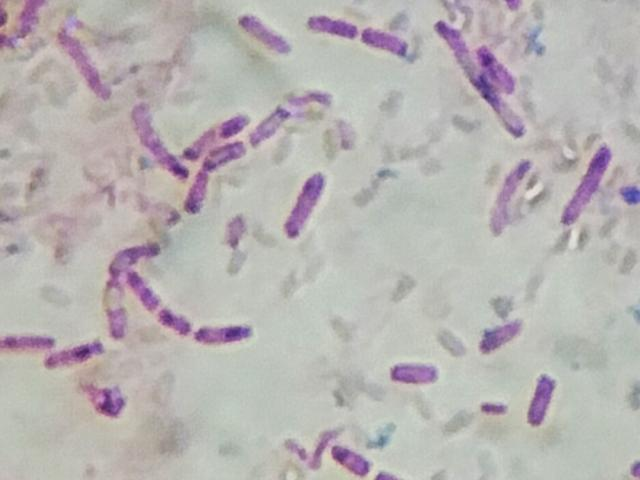E. coli: (53, 22, 116, 106), (126, 96, 186, 181), (561, 140, 615, 229), (488, 153, 532, 238), (285, 167, 329, 240), (472, 75, 521, 133), (518, 365, 558, 433), (190, 113, 251, 152), (478, 39, 521, 90), (385, 356, 445, 390), (476, 313, 530, 350), (306, 6, 361, 42), (196, 316, 259, 347), (238, 10, 286, 50), (361, 23, 414, 58), (251, 103, 291, 147), (109, 235, 155, 273), (438, 20, 472, 69), (101, 277, 128, 337), (43, 342, 102, 368), (0, 323, 50, 353), (186, 165, 217, 213), (326, 439, 367, 473), (155, 305, 192, 337), (203, 142, 249, 167), (131, 266, 156, 305), (375, 467, 416, 480)
